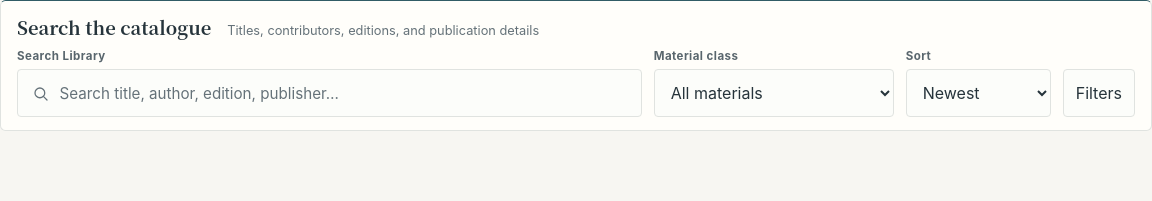
Test: LibrarySearchField › clears via the clear button and Escape, restoring the idle view
Step 1. Type "x" into the search field labelled "Search Library" → {"x": 329, "y": 94}, box [17, 70, 642, 118]
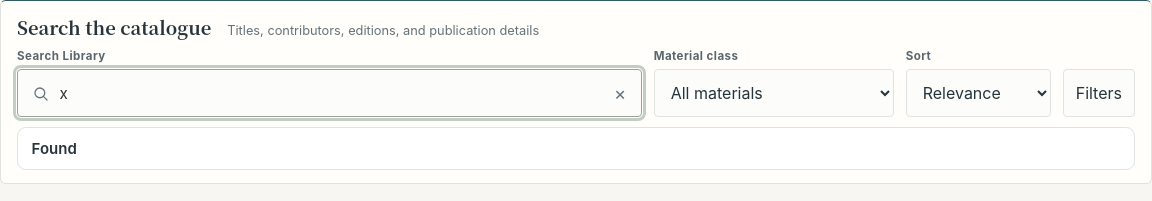
Expected: the text "Found" is shown, [32, 139, 77, 158]
Step 2. Click the button named "Clear search" → {"x": 620, "y": 94}, box [604, 78, 636, 110]
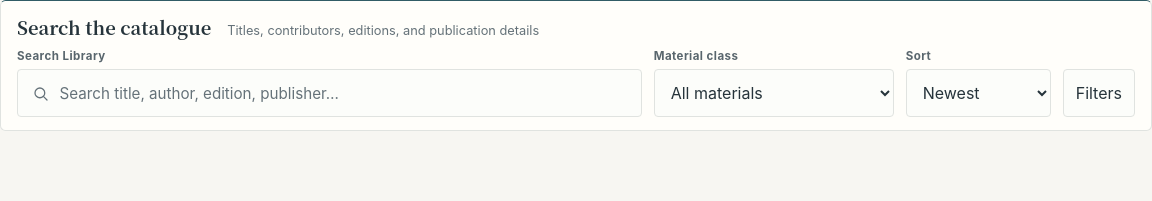
Expected: the search field labelled "Search Library" is empty
Expected: the button "Found" is gone
Step 3. Type "x" into the search field labelled "Search Library" → {"x": 329, "y": 94}, box [17, 70, 642, 118]
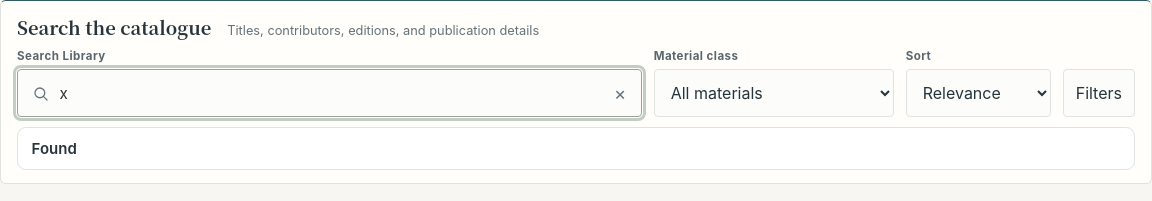
Expected: the text "Found" is shown, [32, 139, 77, 158]
Step 4. Press Escape
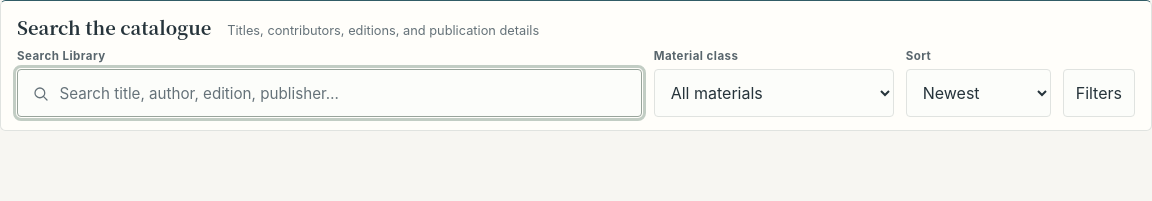
Expected: the search field labelled "Search Library" is empty, [17, 70, 642, 118]
Expected: the button "Found" is gone
